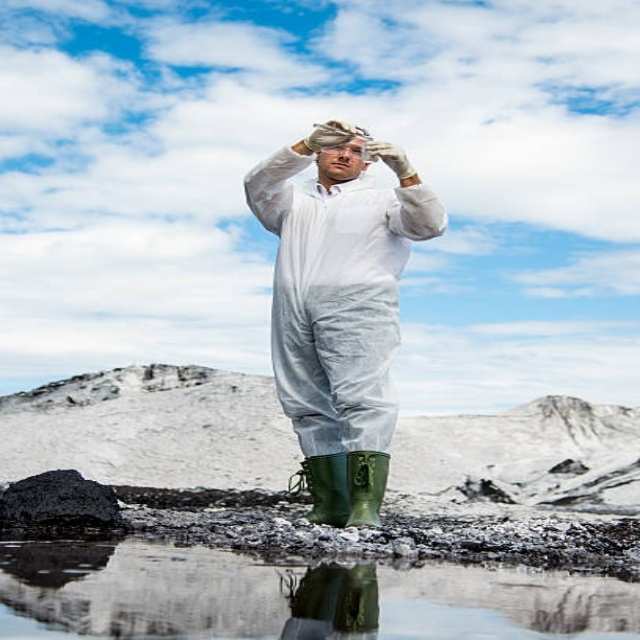Gafas: (320, 143, 367, 161)
Guantes: (363, 139, 417, 180), (302, 120, 358, 154)
Sin_mascara: (326, 159, 350, 177)
